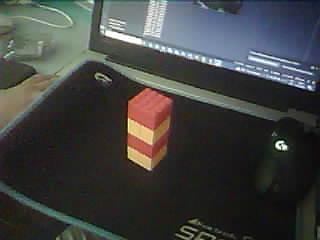lego: (127, 89, 173, 171)
